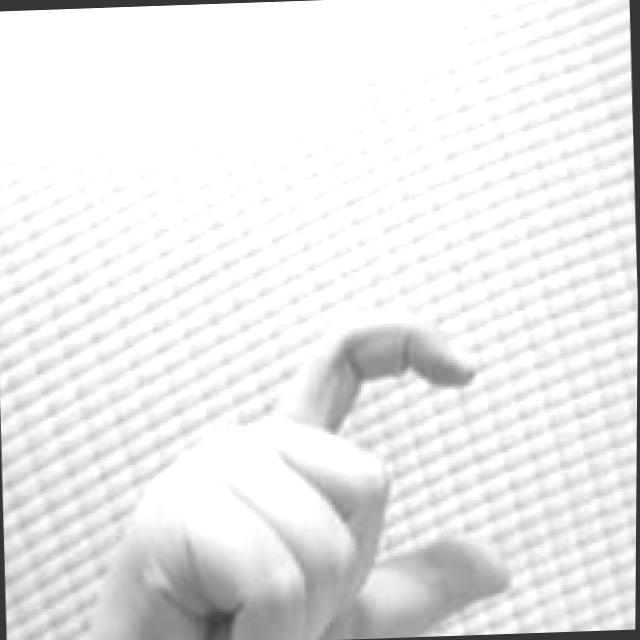C: (68, 298, 520, 640)
